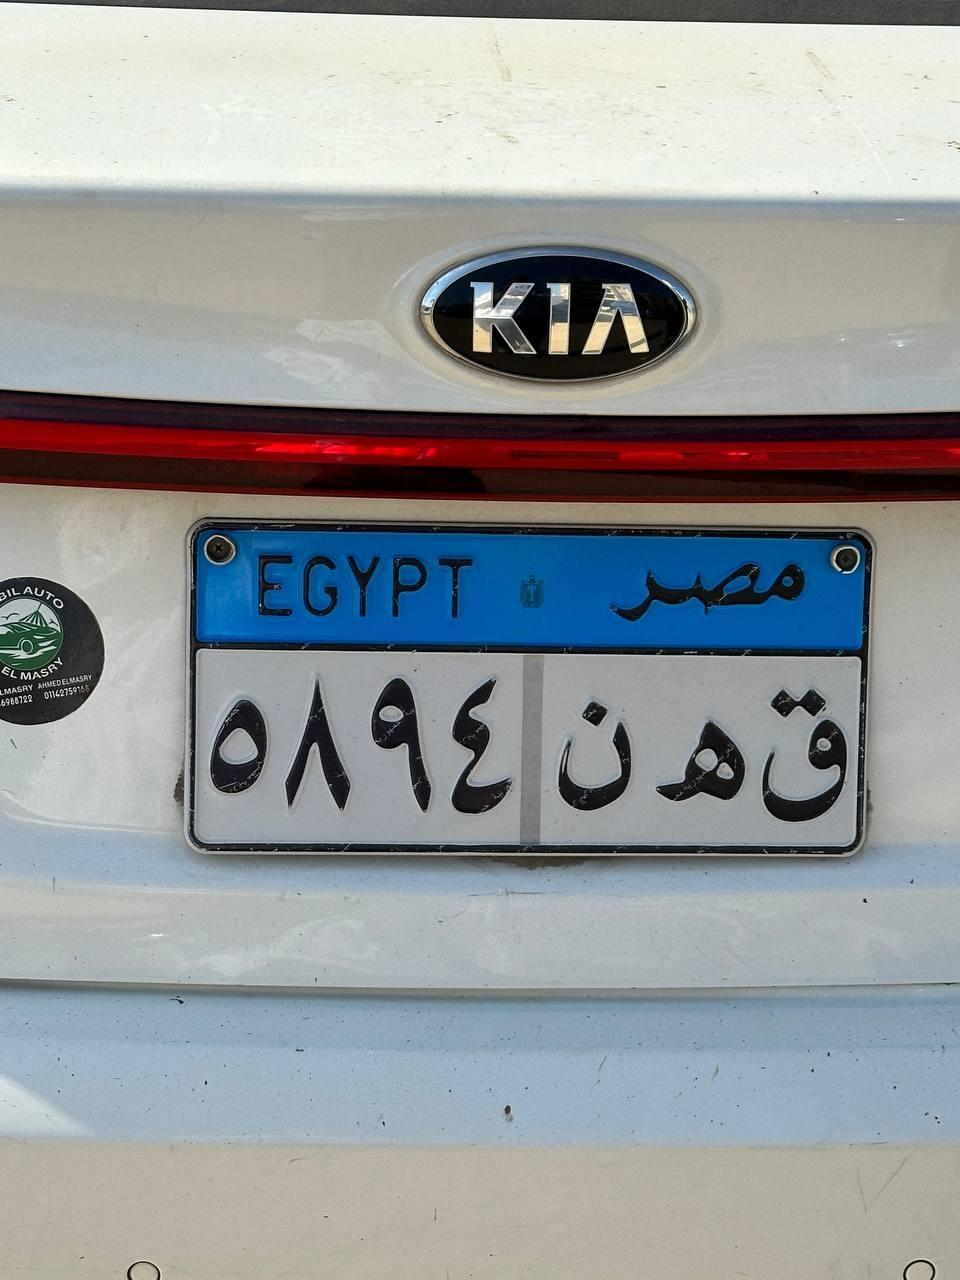4: (452, 675, 514, 814)
5: (210, 698, 270, 795)
8: (282, 679, 359, 816)
9: (362, 677, 442, 811)
Heeh: (654, 706, 752, 823)
License Plate: (185, 503, 878, 862)
Noon: (553, 698, 640, 826)
Q: (760, 689, 860, 823)
